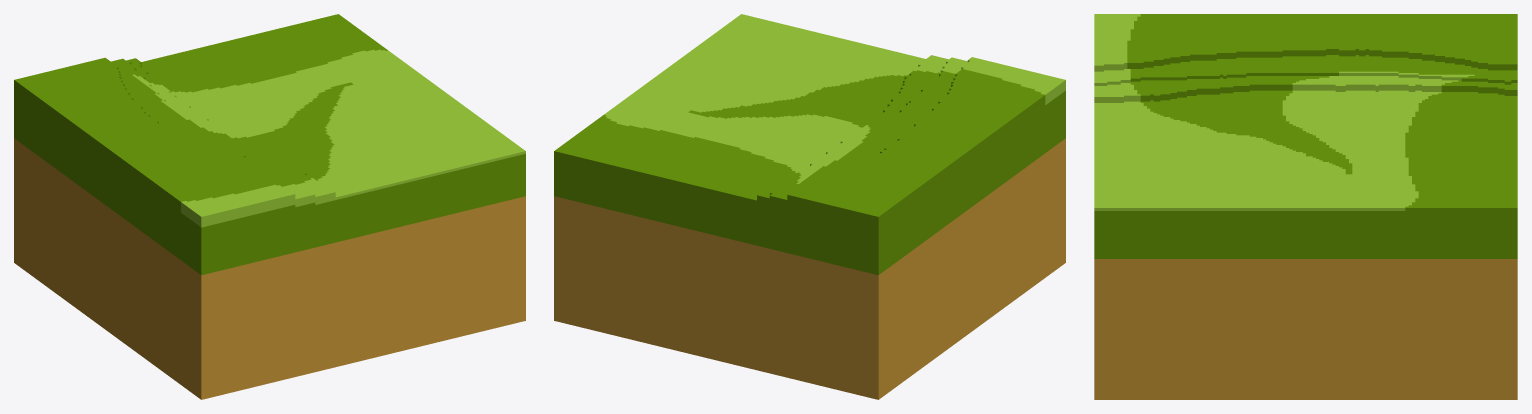
3 views of the same model, side by side, from view 1: azimuth 30°, elevation 25°; view 2: azimuth 150°, elevation 25°; view 3: azimuth 270°, elevation 25° (orthographic). The views are drawn at different scales.
Parts seen in each view (by area): view 1: 16J; view 2: 16J; view 3: 16J.
Boxes of the visible parts, x1,y1,x2,y2 form: 16J: (14,14,525,399); 16J: (554,14,1065,399); 16J: (1094,14,1517,399).
Bounding box in the file's own units: 12.8 × 6.9 × 12.8.
Materials: 1 (1 with a texture image).
